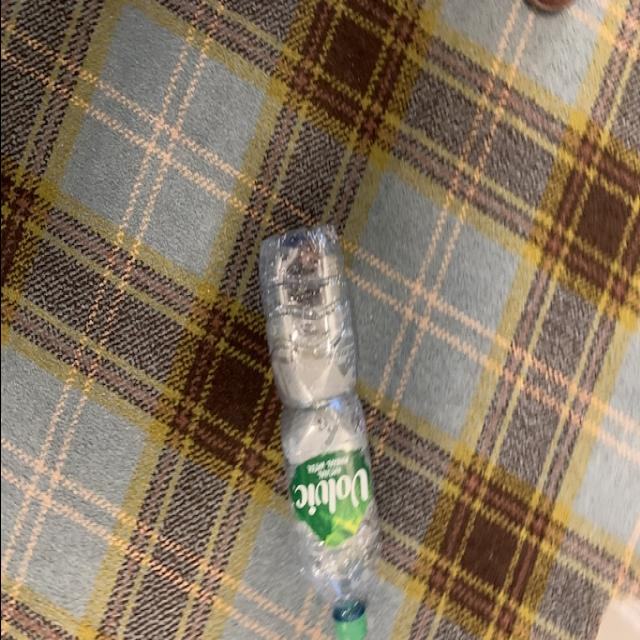PET: (256, 220, 382, 640)
